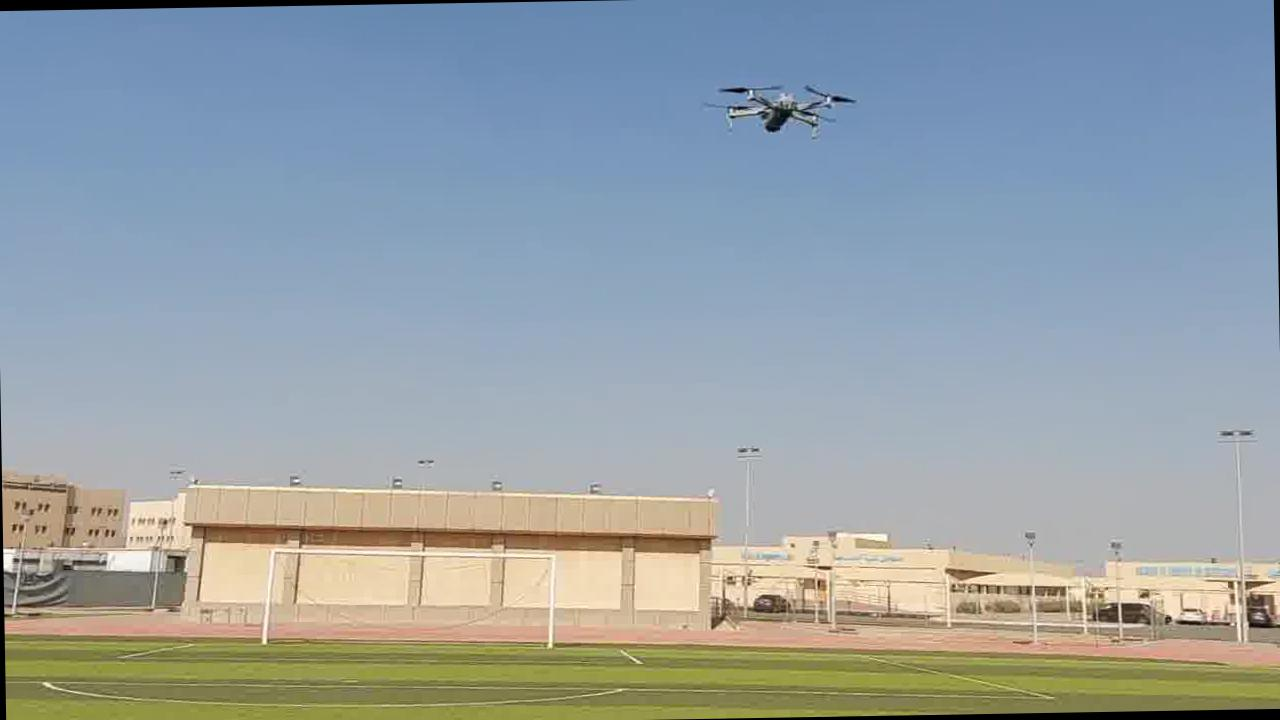drone: (694, 76, 867, 141)
